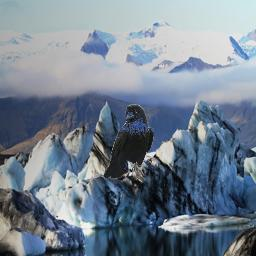Crow: (104, 104, 154, 180)
